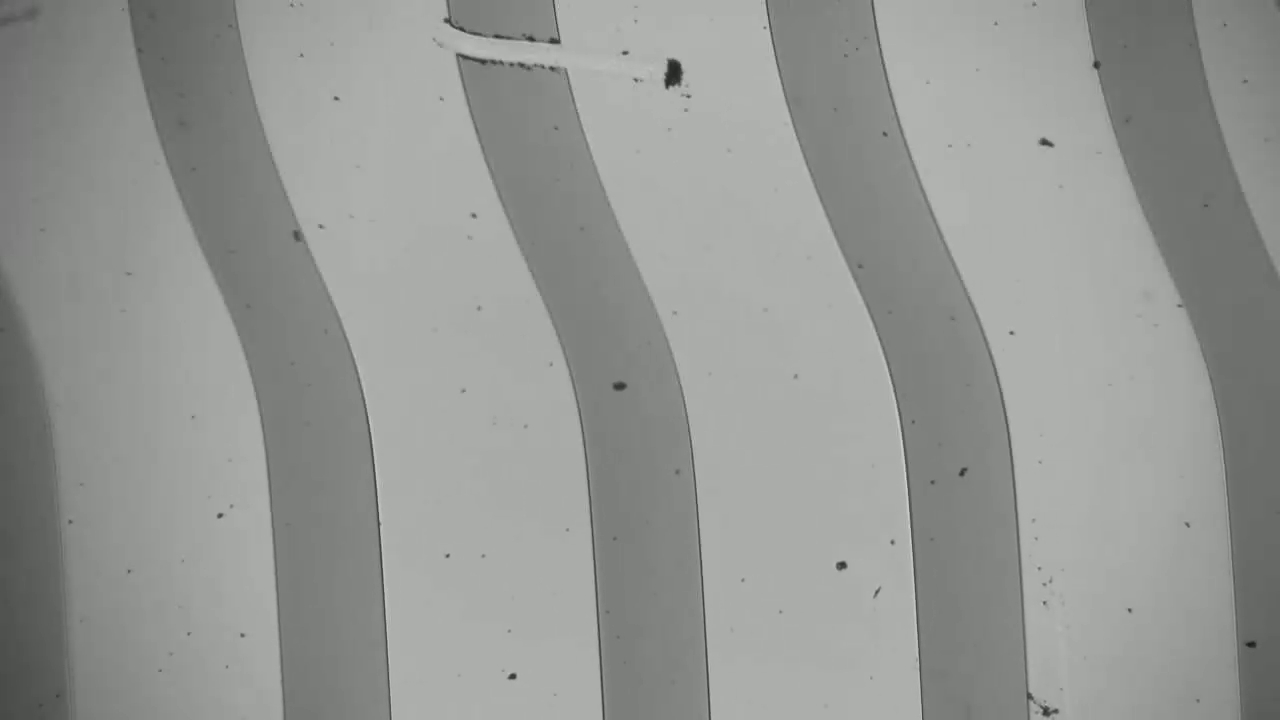Short_circuit: (425, 7, 619, 127)
